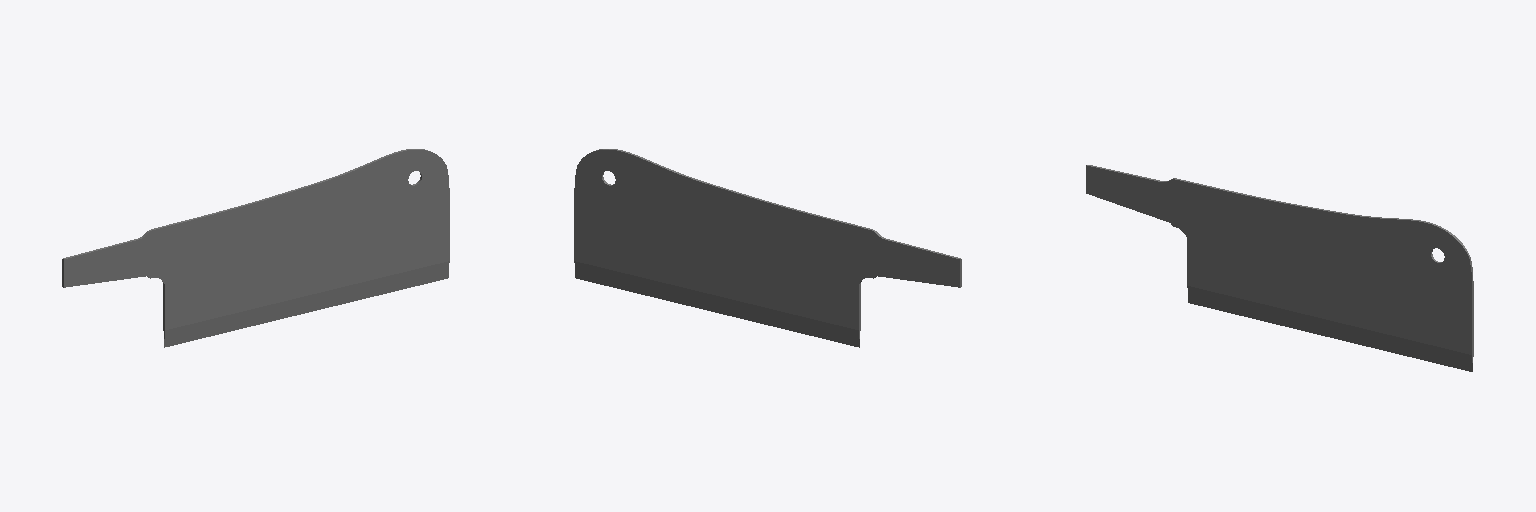
The model's file is KitchenKnifeBlade.obj.
The picture shows the model from 3 angles: view 1: azimuth 30°, elevation 25°; view 2: azimuth 150°, elevation 25°; view 3: azimuth 330°, elevation 25°; orthographic projection.
Parts seen in each view (by area): view 1: KitchenKnifeBlade; view 2: KitchenKnifeBlade; view 3: KitchenKnifeBlade.
Part boxes in pixels (left/top/right/bottom): KitchenKnifeBlade: left=62, top=149, right=449, bottom=347; KitchenKnifeBlade: left=574, top=149, right=961, bottom=347; KitchenKnifeBlade: left=1086, top=165, right=1473, bottom=371.
Bounding box in the file's own units: 0.2297 × 0.079 × 0.0015.